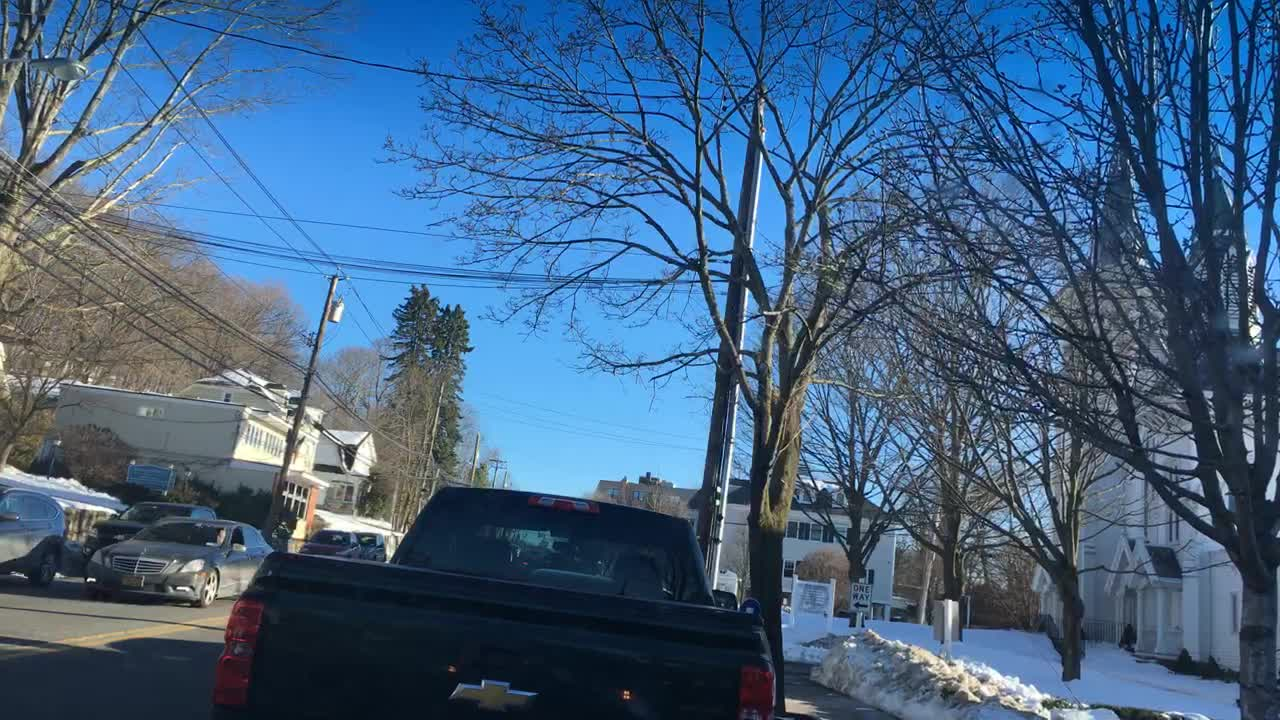car: (78, 519, 278, 604), (1, 482, 69, 591), (85, 498, 221, 548), (298, 523, 364, 561), (355, 530, 389, 562)
traffic sign: (847, 582, 871, 612)
truck: (214, 485, 778, 713)
